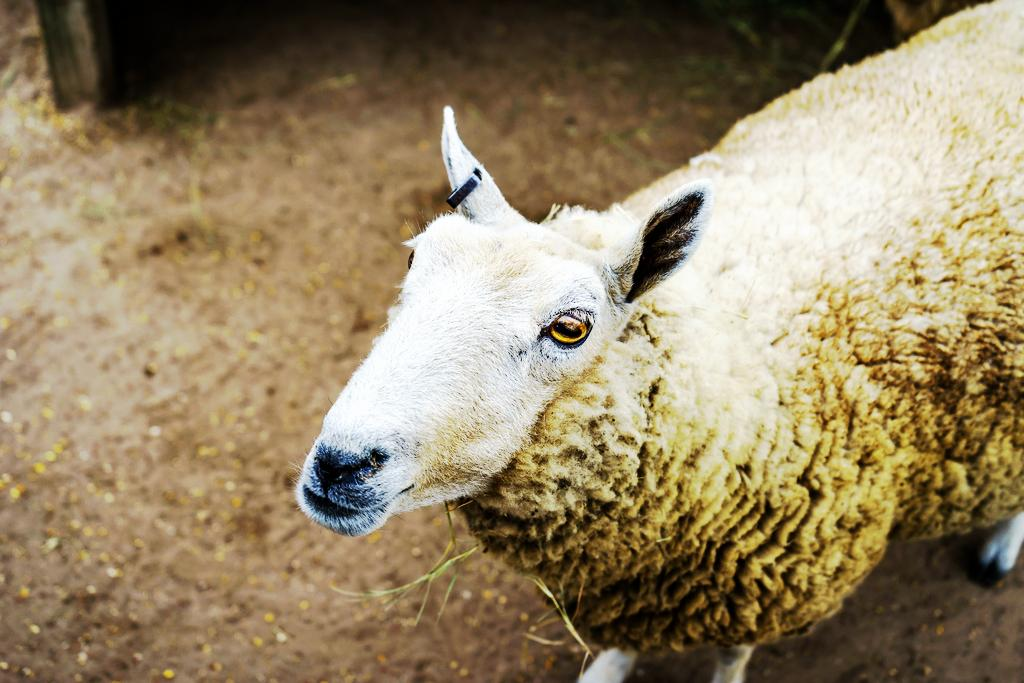Sheep: (285, 0, 1024, 683)
